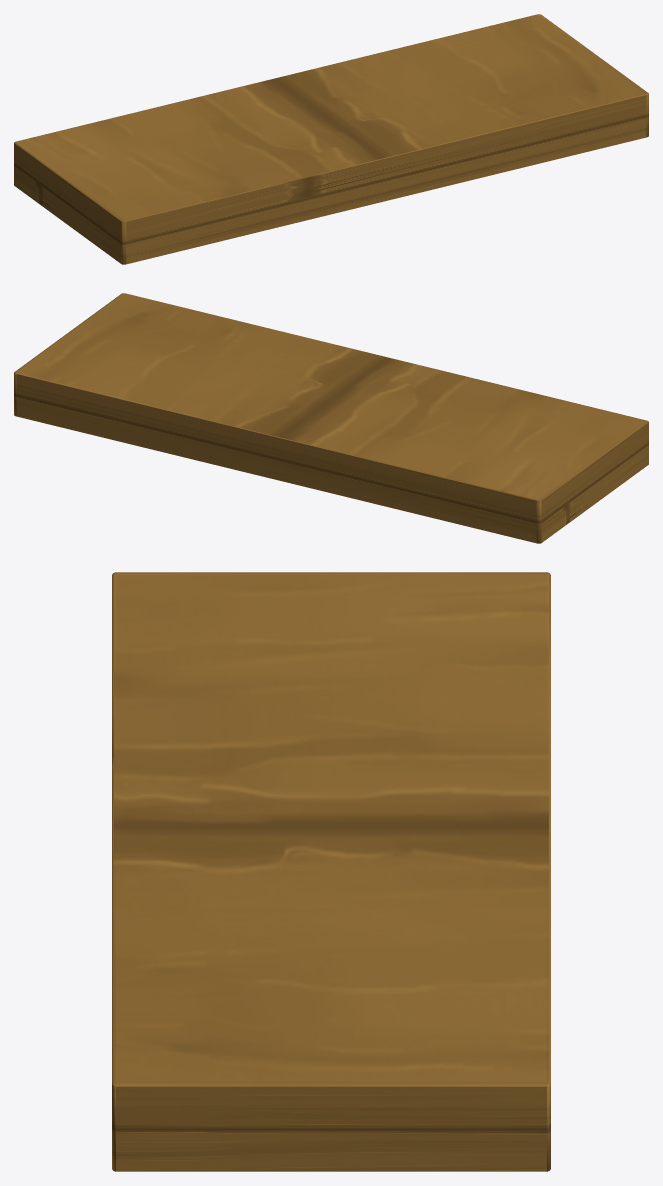
The model's file is Plank.fbx.
3 renders of one model, top to bottom at view 1: azimuth 30°, elevation 25°; view 2: azimuth 150°, elevation 25°; view 3: azimuth 270°, elevation 25°, orthographic. The views are drawn at different scales.
Parts seen in each view (by area): view 1: witch's house.006; view 2: witch's house.006; view 3: witch's house.006.
Part boxes in pixels (left/top/right/bottom): witch's house.006: left=14, top=14, right=648, bottom=264; witch's house.006: left=14, top=293, right=648, bottom=543; witch's house.006: left=112, top=572, right=550, bottom=1171.
Bounding box in the file's own units: 141 × 11.05 × 50.75.
Materials: 1 (1 with a texture image).
